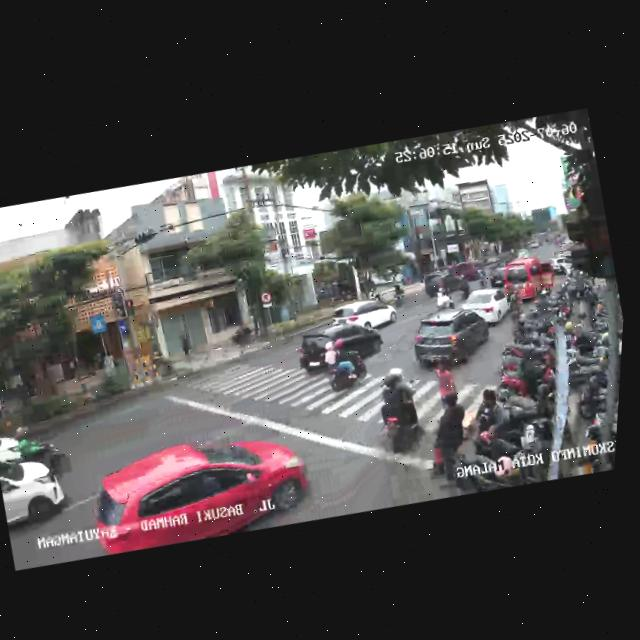car: (78, 413, 319, 568), (401, 293, 502, 377), (0, 439, 80, 542), (292, 312, 389, 386), (330, 291, 400, 341), (500, 252, 559, 307), (454, 282, 517, 332), (420, 264, 465, 305), (0, 423, 26, 464), (484, 264, 509, 287)
motorcycle: (365, 364, 432, 458), (0, 414, 75, 482), (319, 331, 371, 397), (429, 278, 458, 314)
person: (422, 388, 480, 489), (430, 358, 462, 416)
